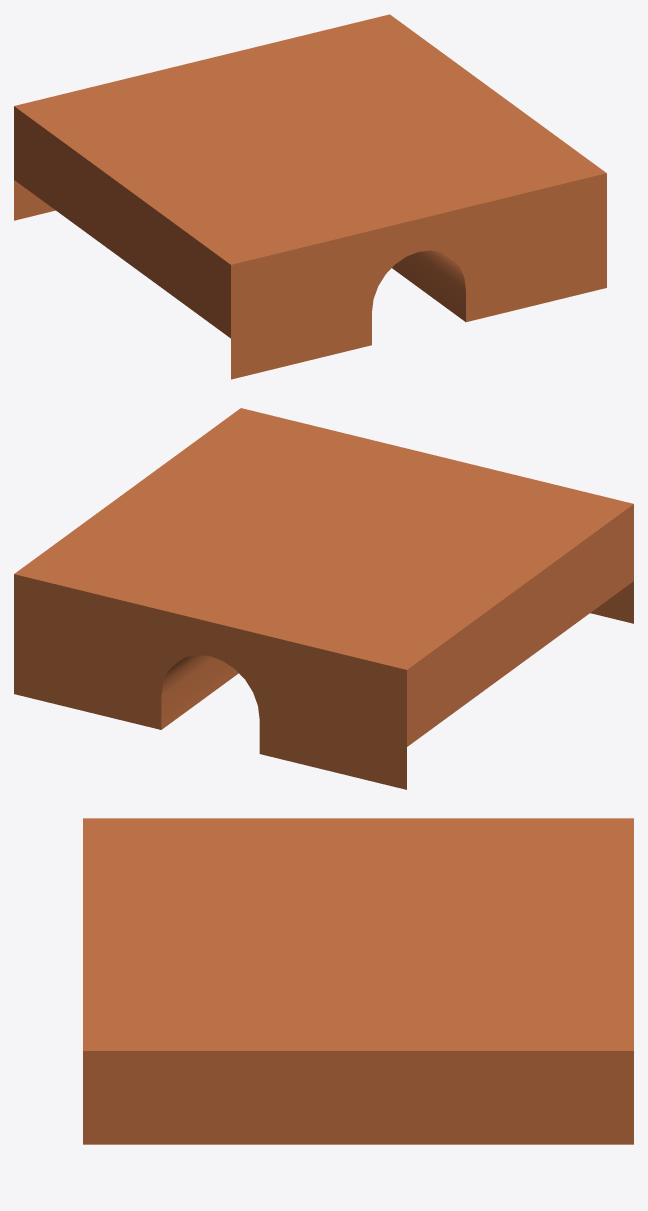
File: TunnelNarrow (Tunnel).fbx
3 views of the same model, one above another, from view 1: azimuth 30°, elevation 25°; view 2: azimuth 150°, elevation 25°; view 3: azimuth 270°, elevation 25° (orthographic). The views are drawn at different scales.
Visible parts, largest first — view 1: tunnelNarrow001; view 2: tunnelNarrow001; view 3: tunnelNarrow001.
Part boxes in pixels (x1=…): tunnelNarrow001: x1=14, y1=14, x2=606, y2=379; tunnelNarrow001: x1=14, y1=408, x2=633, y2=789; tunnelNarrow001: x1=83, y1=818, x2=633, y2=1144.
Size of the model in its own units: 31.49 by 9.19 by 35.43.
